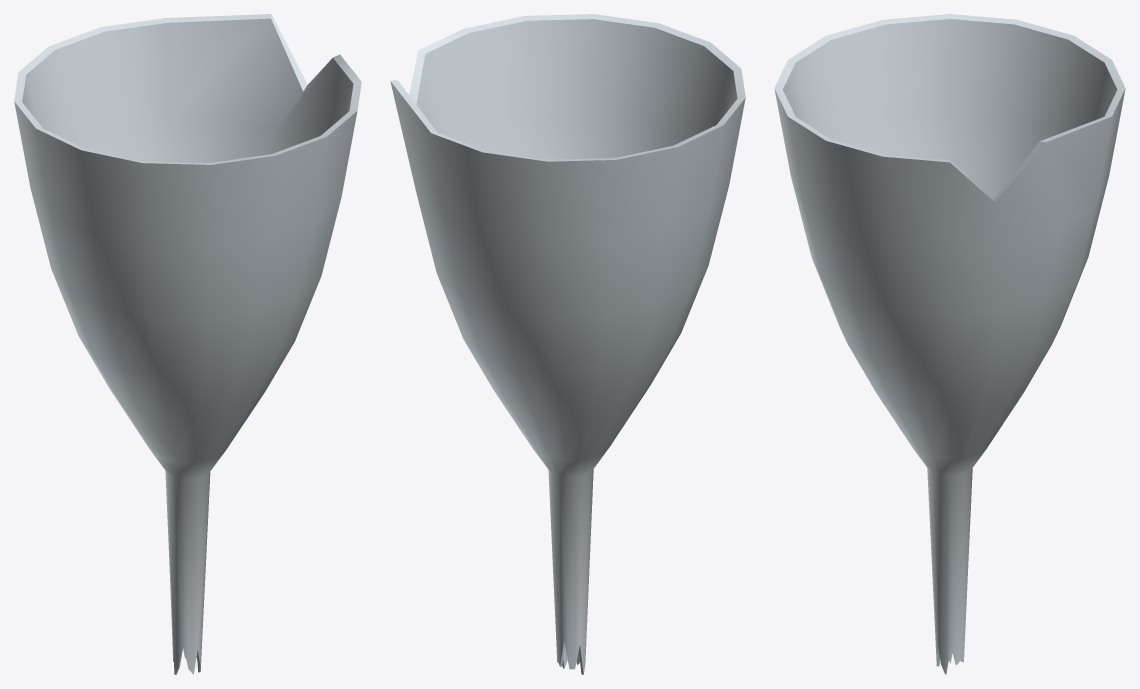
File: Vaso_01.fbx
3 views of the same model, side by side, from view 1: azimuth 30°, elevation 25°; view 2: azimuth 150°, elevation 25°; view 3: azimuth 270°, elevation 25° (orthographic).
Parts seen in each view (by area): view 1: Vaso_01; view 2: Vaso_01; view 3: Vaso_01.
Part boxes in pixels (<box>): Vaso_01: <box>14,14,361,674</box>; Vaso_01: <box>390,14,745,674</box>; Vaso_01: <box>774,14,1125,674</box>.
Size of the model in its own units: 30.9 by 57.44 by 30.9.
